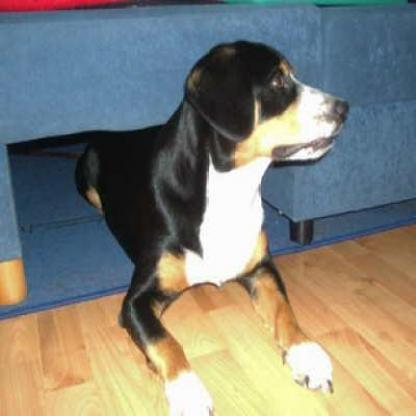EntleBucher: (58, 36, 350, 413)
